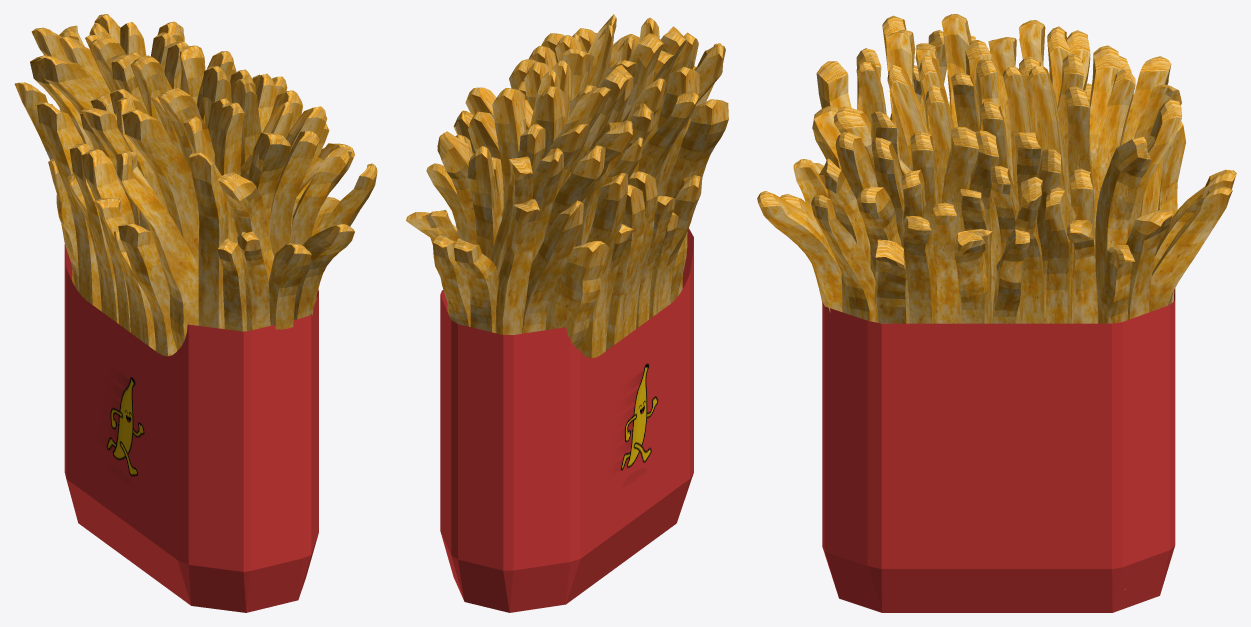
Rendered from fries-optimised.fbx.
3 views of the same model, side by side, from view 1: azimuth 30°, elevation 25°; view 2: azimuth 150°, elevation 25°; view 3: azimuth 270°, elevation 25° (orthographic). The views are drawn at different scales.
Parts seen in each view (by area): view 1: Cube.017, Plane, Plane.001; view 2: Cube.017, Plane, Plane.001; view 3: Cube.017, Plane.
Part boxes in pixels (x1,y1,x2,y2): Cube.017: (14, 14, 377, 356); Plane: (64, 244, 318, 612); Plane.001: (89, 336, 155, 504); Cube.017: (406, 14, 728, 560); Plane: (440, 228, 693, 612); Plane.001: (604, 338, 668, 502); Cube.017: (757, 14, 1236, 589); Plane: (822, 288, 1175, 612).
Bounding box in the file's own units: 399 × 874 × 709.
3 materials, 2 textured.
